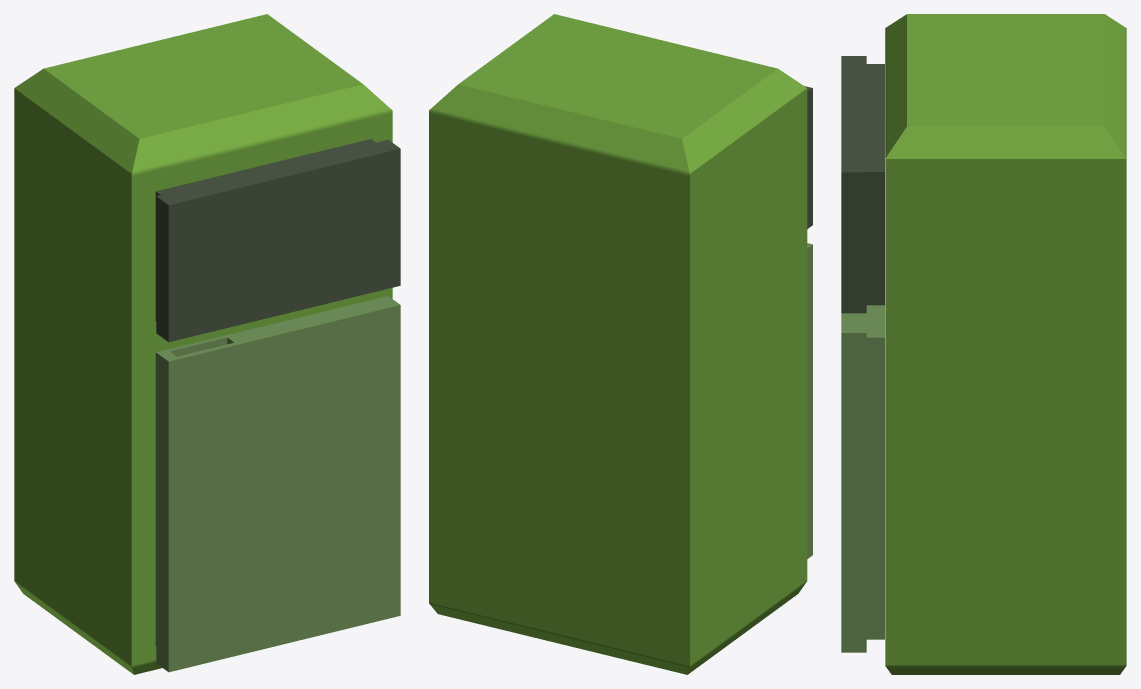
Rendered from fridge_high.fbx.
3 views of the same model, side by side, from view 1: azimuth 30°, elevation 25°; view 2: azimuth 150°, elevation 25°; view 3: azimuth 270°, elevation 25° (orthographic). The views are drawn at different scales.
Visible parts, largest first — view 1: fridge_base_high, lower_door2_high, upper_door2_high; view 2: fridge_base_high, lower_door2_high, upper_door2_high; view 3: fridge_base_high, lower_door2_high, upper_door2_high.
Part boxes in pixels (<box>): fridge_base_high: <box>14,14,392,674</box>; lower_door2_high: <box>155,296,400,672</box>; upper_door2_high: <box>155,139,400,342</box>; fridge_base_high: <box>429,14,807,674</box>; lower_door2_high: <box>807,243,812,558</box>; upper_door2_high: <box>804,86,812,228</box>; fridge_base_high: <box>885,14,1126,674</box>; lower_door2_high: <box>841,305,884,652</box>; upper_door2_high: <box>841,56,884,313</box>.
Bounding box in the file's own units: 7.35 × 14.2 × 6.77.
